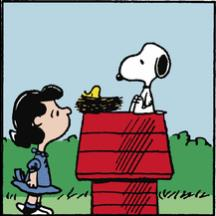snoopy: (113, 40, 171, 116)
